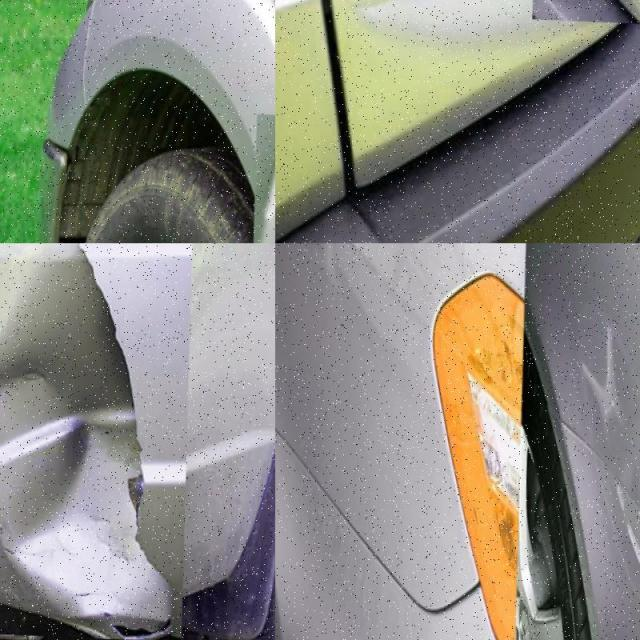car damage: (0, 310, 160, 622), (77, 244, 178, 596)
